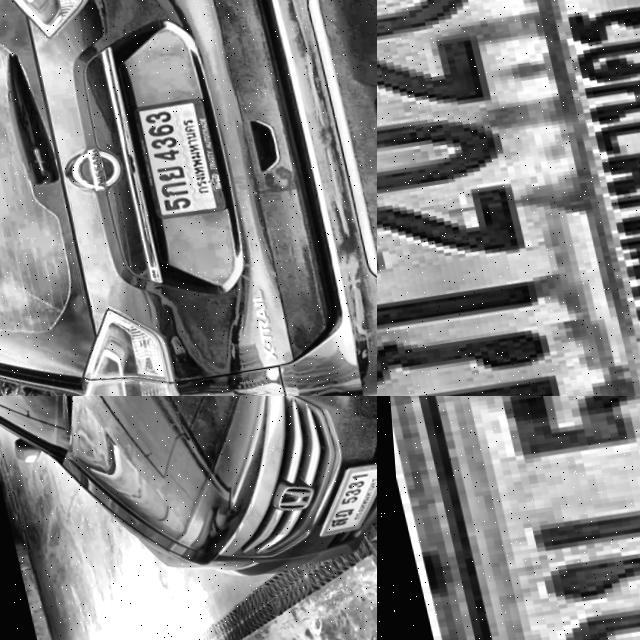license-plate: (377, 0, 640, 396), (377, 396, 640, 640), (122, 96, 224, 221), (296, 460, 377, 537)
